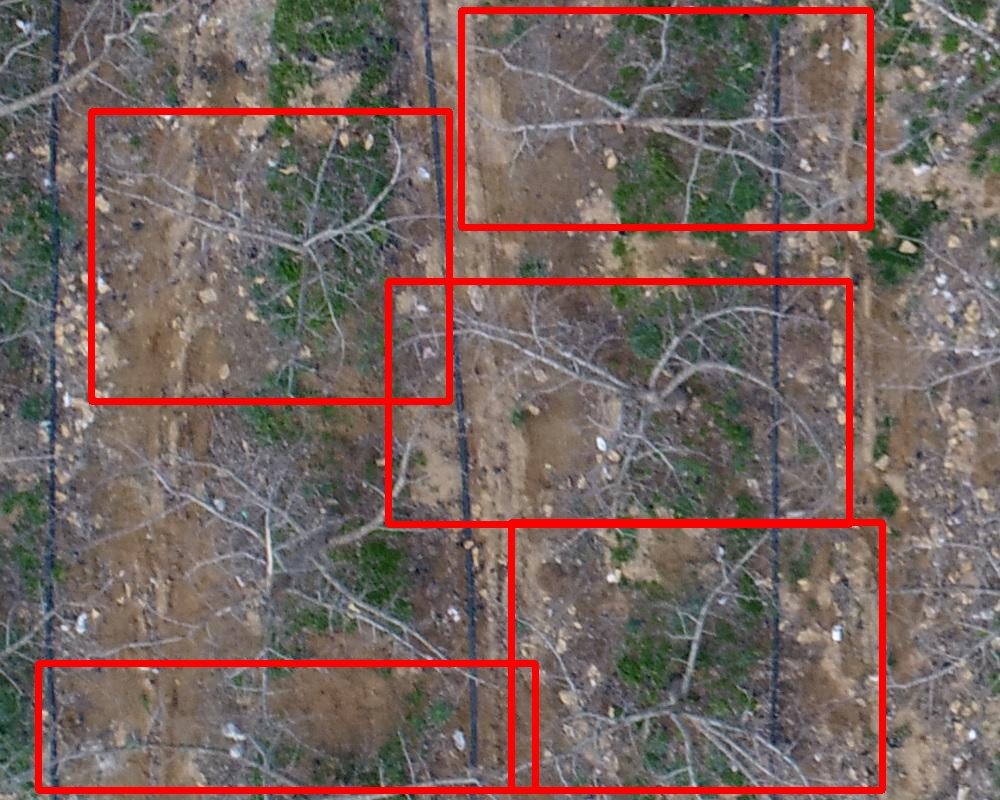apple: (388, 281, 849, 524), (91, 111, 449, 401), (511, 522, 882, 790), (461, 10, 870, 227), (38, 663, 535, 790)
